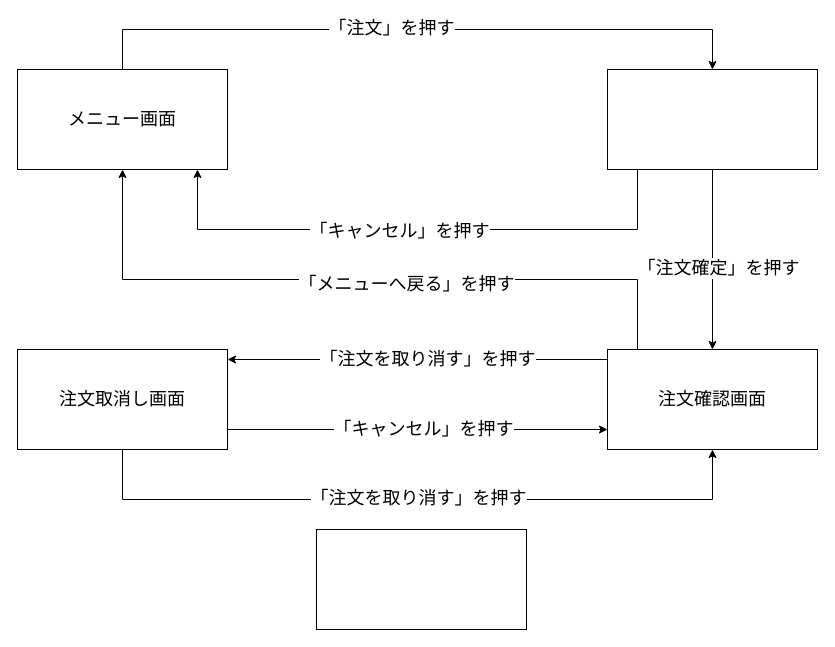
This 835x647 diagram has some shape labels left out. The box of each missing label's shape, as (x1, y1, x2, y2) in pixels:
商品受け渡し画面: (316, 528, 526, 630)
商品注文画面: (606, 68, 818, 170)
